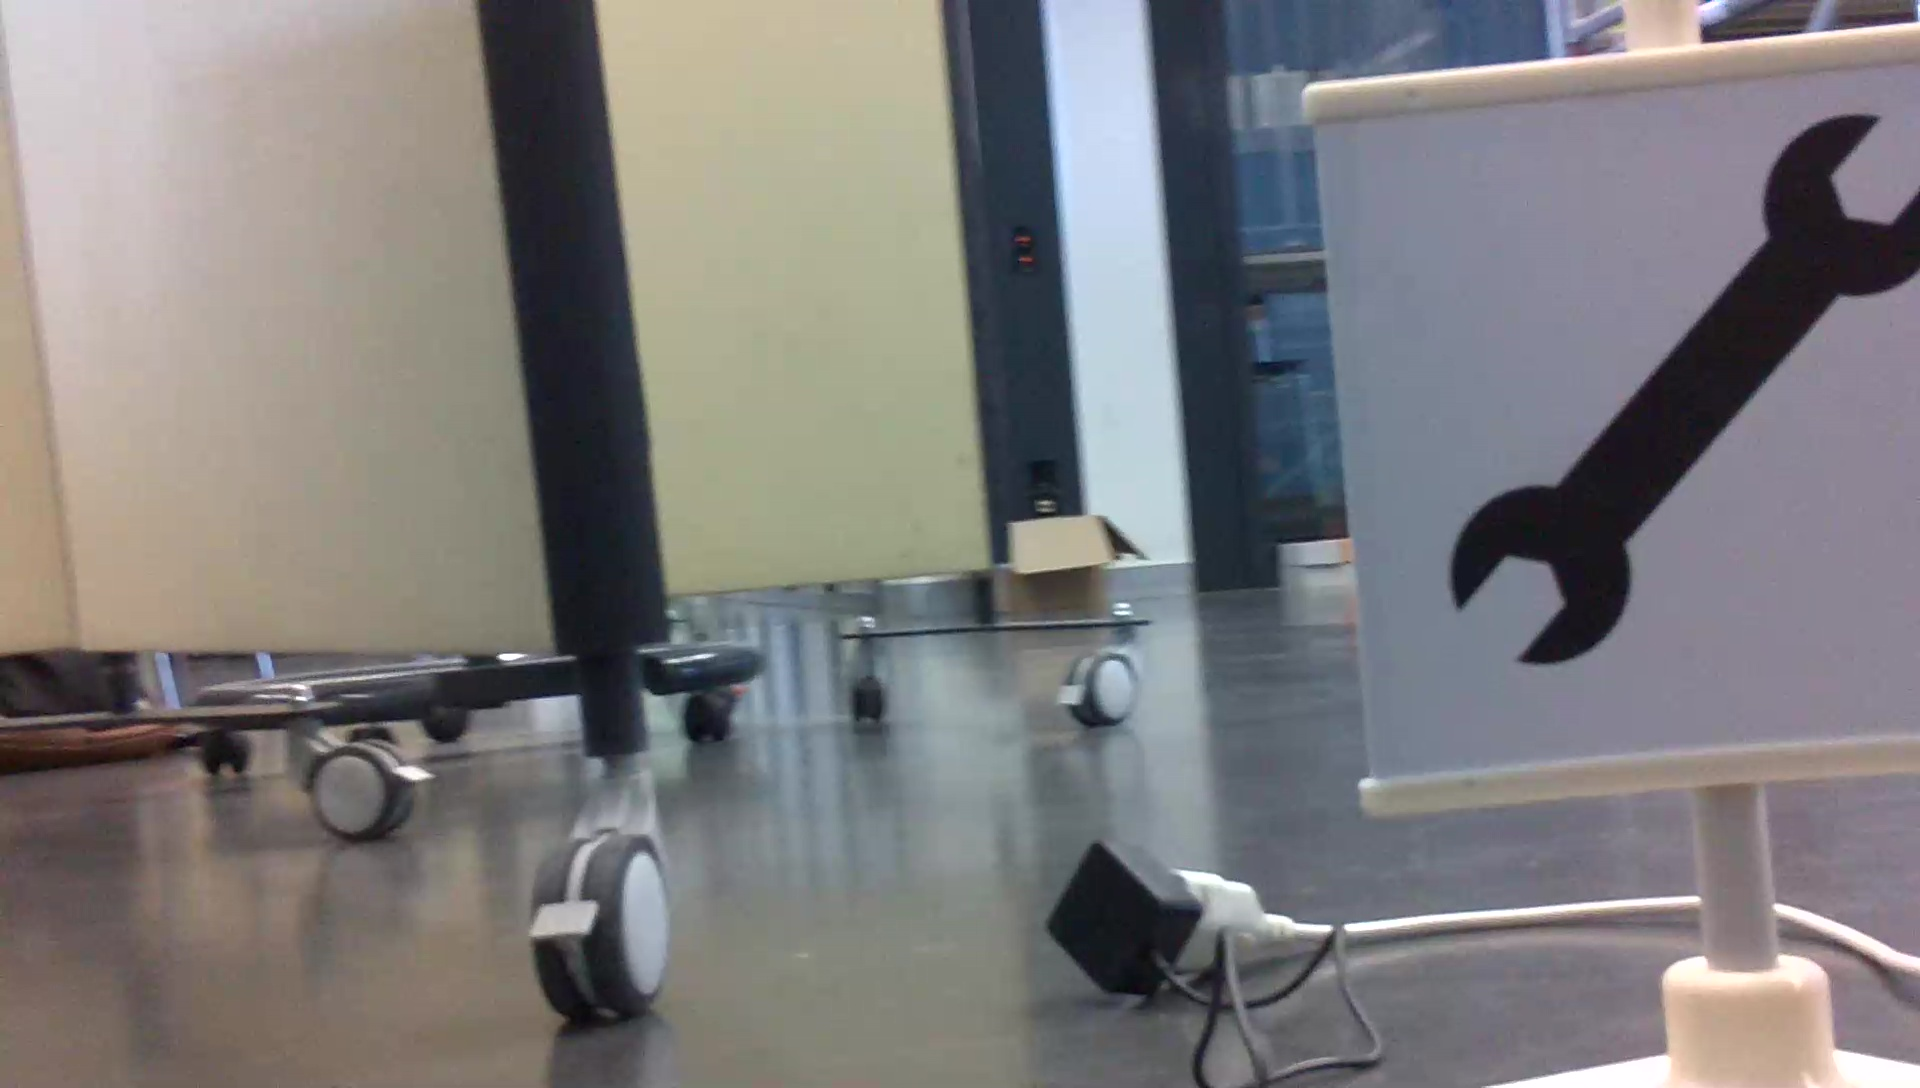wrench: (1440, 108, 1920, 675)
